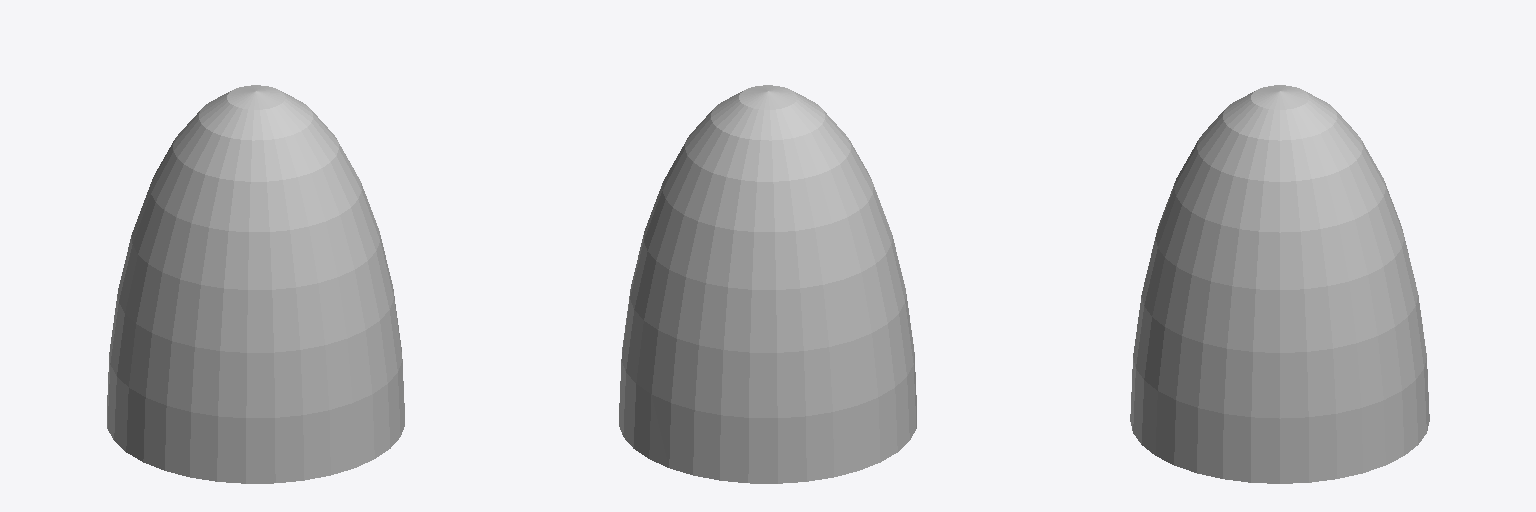
Rendered from hemisphere.obj.
The picture shows the model from 3 angles: view 1: azimuth 30°, elevation 25°; view 2: azimuth 150°, elevation 25°; view 3: azimuth 270°, elevation 25°; orthographic projection.
Visible parts, largest first — view 1: Sphere; view 2: Sphere; view 3: Sphere.
Boxes of the visible parts, box(x1,y1,x2,y2) form: Sphere: box(107, 85, 404, 483); Sphere: box(619, 85, 916, 483); Sphere: box(1130, 85, 1429, 483).
Bounding box in the file's own units: 2 × 2.43 × 2.